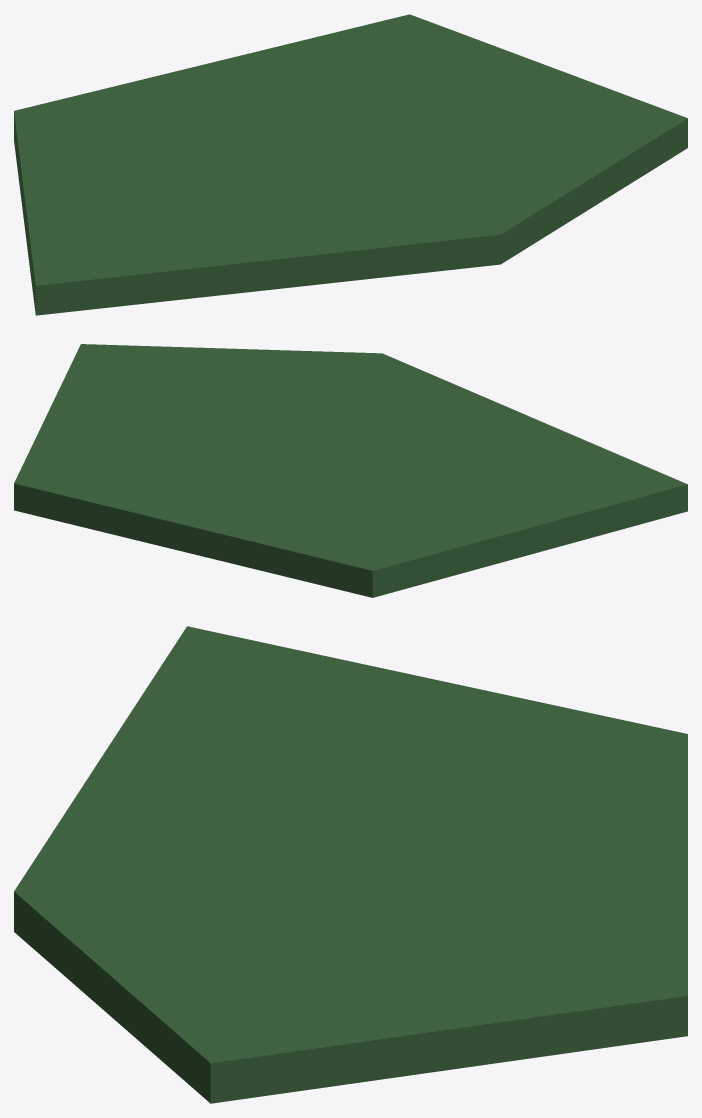
File: x_proval_00_39_1_rmstrd.fbx
3 renders of one model, top to bottom at view 1: azimuth 30°, elevation 25°; view 2: azimuth 150°, elevation 25°; view 3: azimuth 270°, elevation 25°, orthographic. The views are drawn at different scales.
Parts seen in each view (by area): view 1: x_proval_00_39_1_rmstrd1; view 2: x_proval_00_39_1_rmstrd1; view 3: x_proval_00_39_1_rmstrd1.
Boxes of the visible parts, box(x1,y1,x2,y2) form: x_proval_00_39_1_rmstrd1: box(14, 14, 687, 315); x_proval_00_39_1_rmstrd1: box(14, 344, 687, 597); x_proval_00_39_1_rmstrd1: box(14, 626, 687, 1103).
Bounding box in the file's own units: 4.64 × 0.2 × 3.03.
